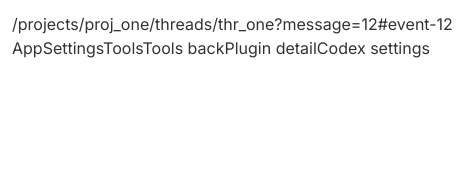
Test: useAppSettingsRouteMemory › resets Extensions after Back to app returns to core app context
Click the link "Tools": (123, 48) [103,38,142,58]
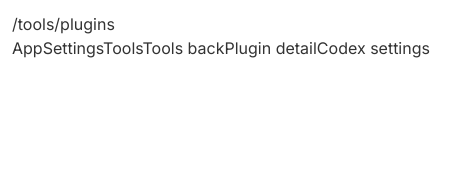
Check: the text with test id "location" reads "/tools/plugins", box [12,14,115,34]
Click the link "Plugin detail": (271, 48) [224,38,317,58]
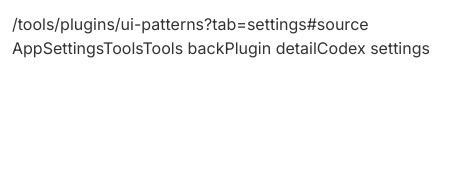
Check: the text with test id "location" reads "/tools/plugins/ui-patterns?tab=settings#source", box [12,14,369,34]
Click the link "Tools back": (184, 48) [142,38,224,58]
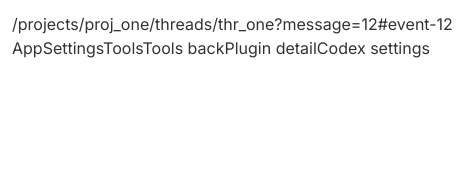
Check: the text with test id "location" reads "/projects/proj_one/threads/thr_one?message=12#event-12", box [12,14,453,34]
Click the link "Tools": (123, 48) [103,38,142,58]
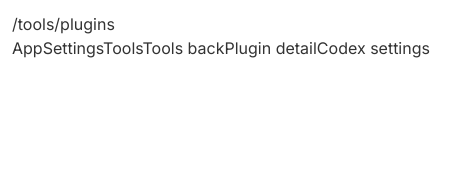
Check: the text with test id "location" reads "/tools/plugins", box [12,14,115,34]
